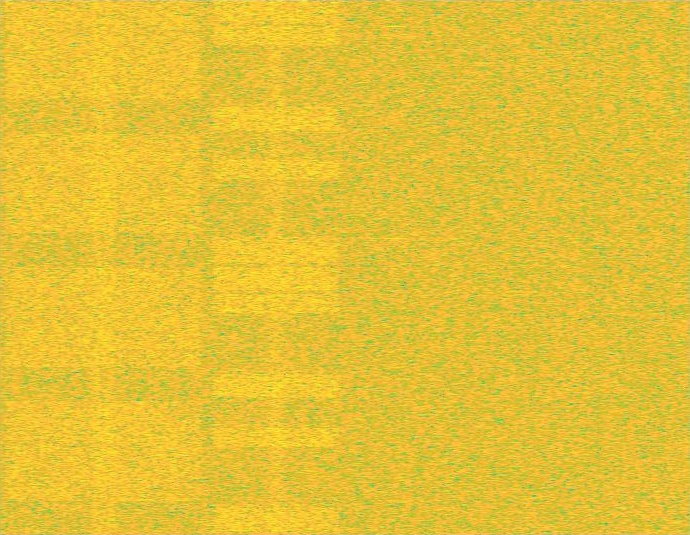5G: (0, 0, 207, 534)
DSSS: (90, 0, 117, 534), (267, 0, 285, 534)
LTE: (207, 0, 345, 534)
Radar: (387, 0, 401, 534)
